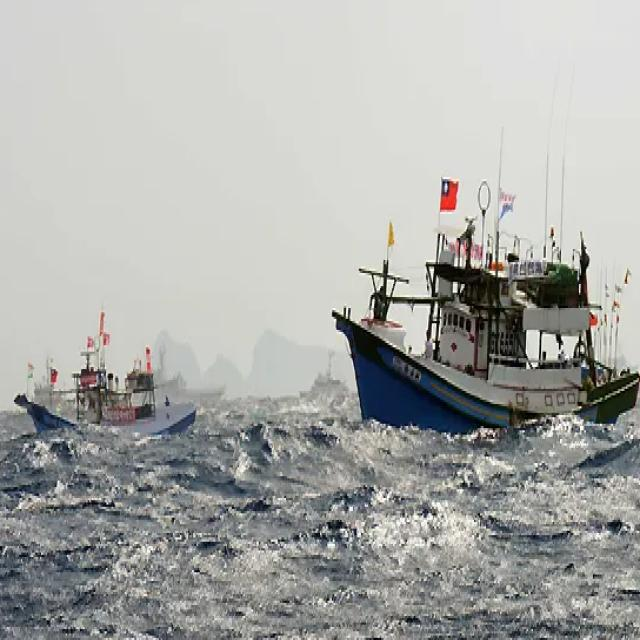fishing boat: (331, 172, 639, 426), (21, 305, 189, 444)
